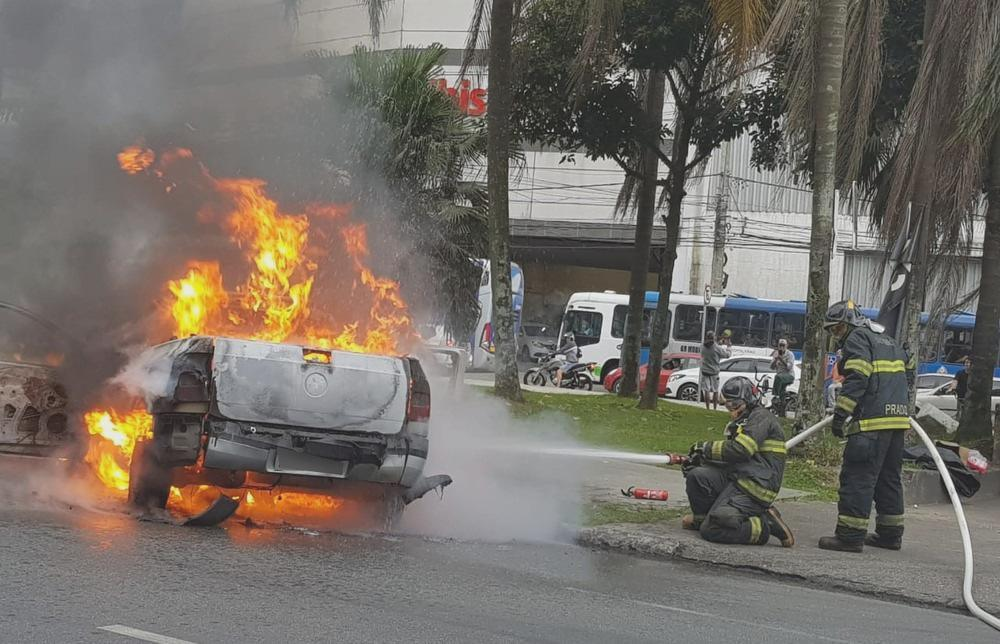Fire: (117, 138, 421, 366), (86, 401, 350, 523)
